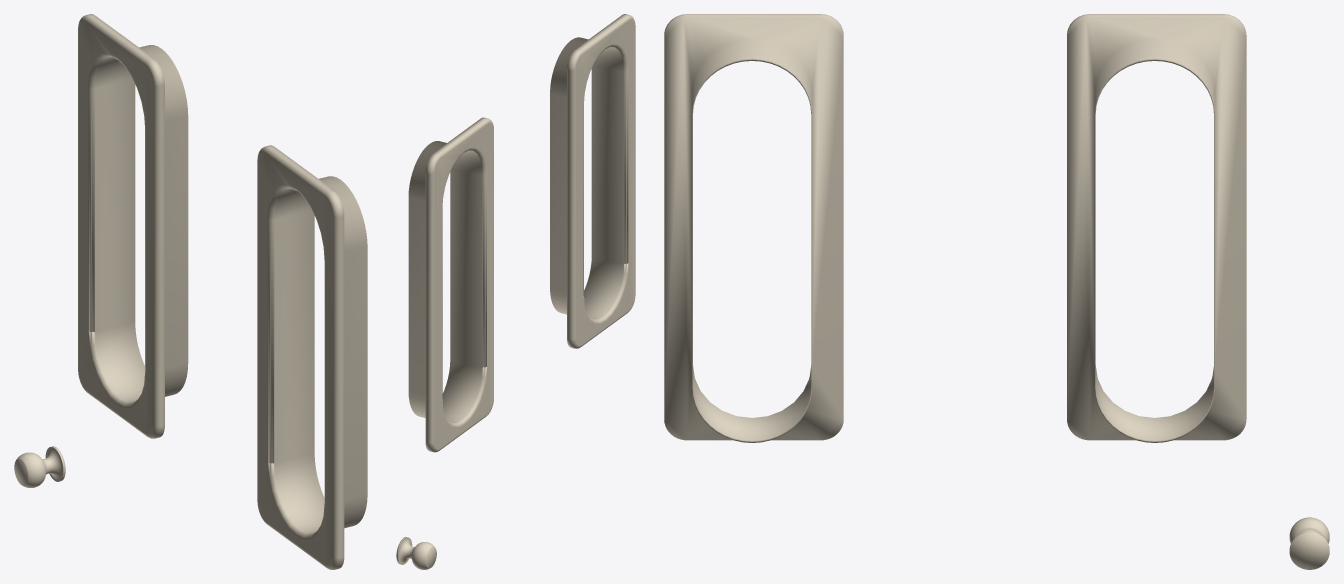
Rendered from Shkafik_4.fbx.
3 views of the same model, side by side, from view 1: azimuth 30°, elevation 25°; view 2: azimuth 150°, elevation 25°; view 3: azimuth 270°, elevation 25° (orthographic). The views are drawn at different scales.
Parts seen in each view (by area): view 1: geo_102, geo_100; view 2: geo_102, geo_100; view 3: geo_102, geo_100.
Part boxes in pixels (bbox=[...]): geo_102: bbox=[78, 14, 367, 569]; geo_100: bbox=[14, 446, 65, 487]; geo_102: bbox=[408, 14, 635, 452]; geo_100: bbox=[396, 537, 436, 569]; geo_102: bbox=[664, 14, 1246, 442]; geo_100: bbox=[1289, 517, 1329, 569].
Size of the model in its own units: 5.11 by 33.68 by 36.73.
